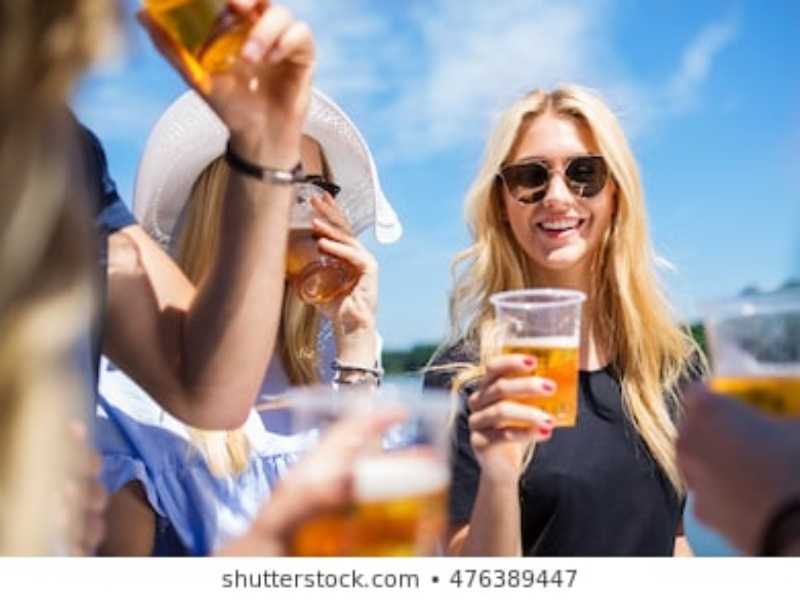plastic-cup: (286, 380, 454, 558), (485, 285, 596, 431), (140, 1, 275, 80), (285, 181, 360, 303)
